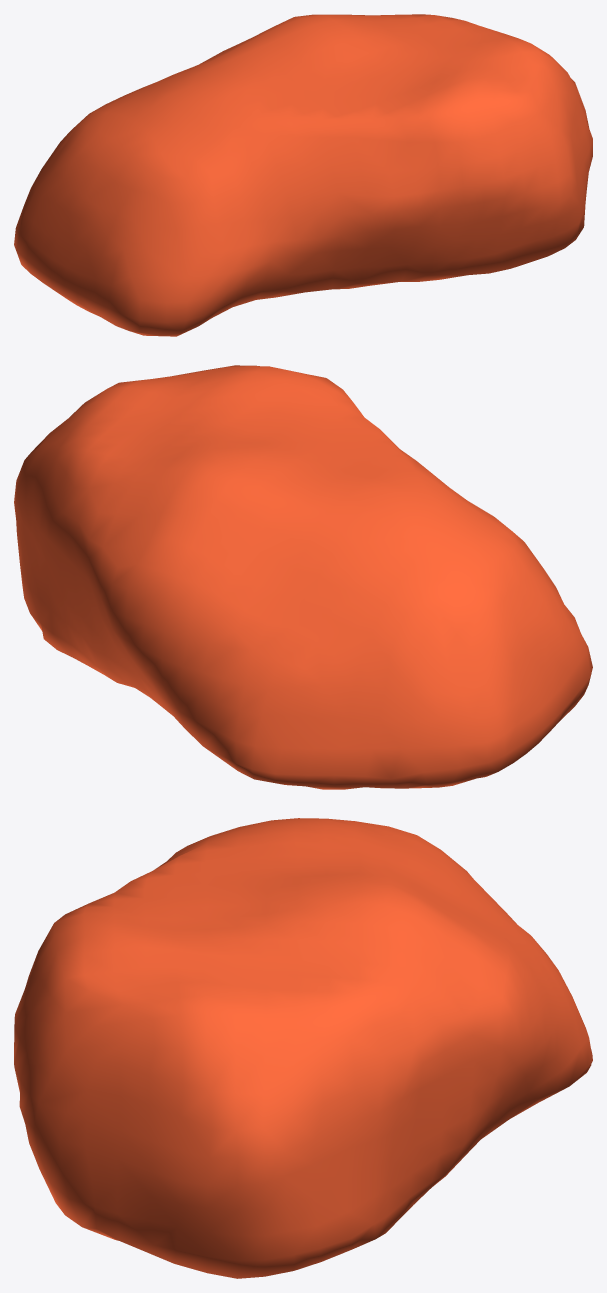
The picture shows the model from 3 angles, top to bottom: view 1: azimuth 30°, elevation 25°; view 2: azimuth 150°, elevation 25°; view 3: azimuth 270°, elevation 25°; orthographic projection. The views are drawn at different scales.
Parts seen in each view (by area): view 1: Roca26; view 2: Roca26; view 3: Roca26.
Part boxes in pixels (<box>): Roca26: <box>14,14,592,336</box>; Roca26: <box>14,365,592,789</box>; Roca26: <box>14,818,592,1278</box>.
Bounding box in the file's own units: 217 × 86.22 × 165.
